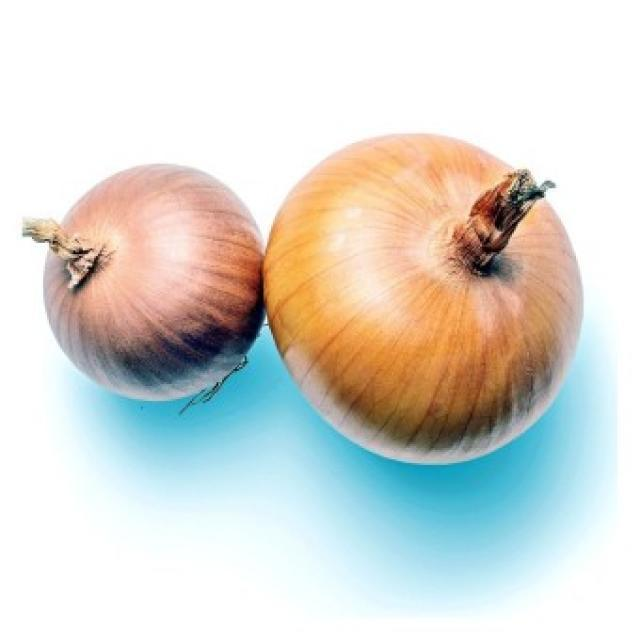Onion: (264, 130, 595, 480), (23, 145, 262, 426)
